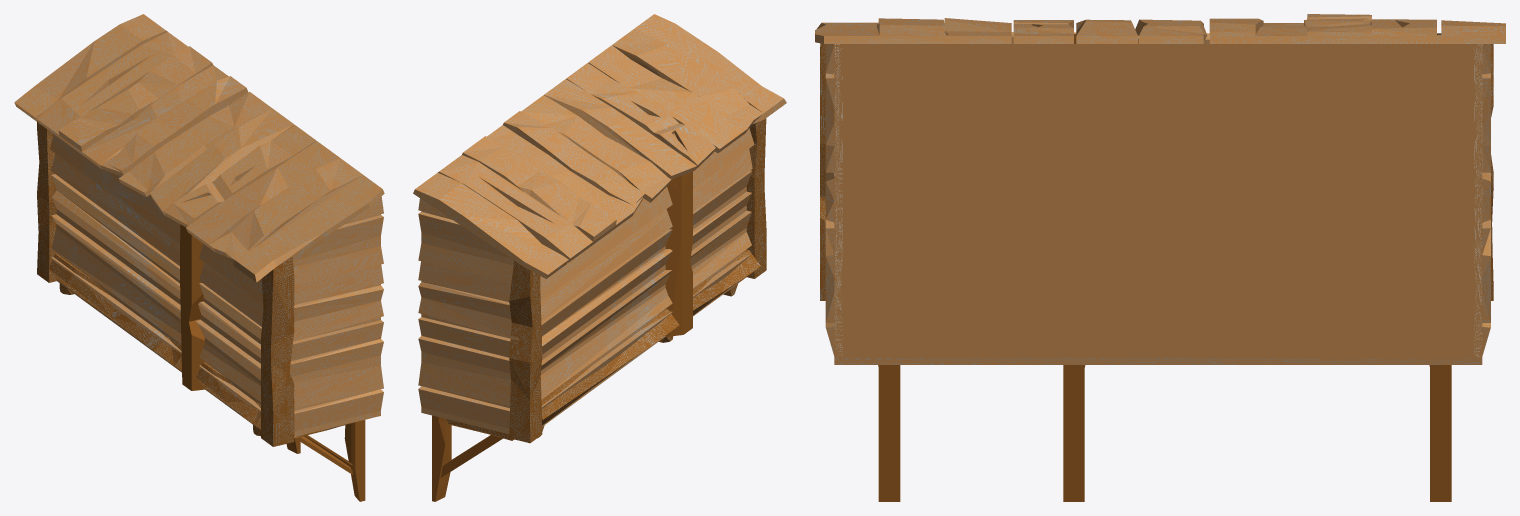
Rendered from Extension.fbx.
The picture shows the model from 3 angles, left to right: view 1: azimuth 30°, elevation 25°; view 2: azimuth 150°, elevation 25°; view 3: azimuth 270°, elevation 25°; orthographic projection. The views are drawn at different scales.
Visible parts, largest first — view 1: Roof8_1, Group2, Group7, Group8, Group5, Group4, Group6, Konek3_1, Group17, Konek3_2, Blok1, Group16; view 2: Roof8_1, Group2, Group1, Group3, Group6, Group4, Konek3_1, Group5, Group10, Konek3_2, Blok1, Group9; view 3: Blok1, Roof8_1, Group17, Group10, Group13, Group5, Group7, Group8, Group1, Group3.
Part boxes in pixels (x1,y1,x2,y2): Roof8_1: (14,14,384,282); Group2: (50,134,263,411); Group7: (289,300,383,431); Group8: (292,196,383,321); Group5: (261,257,294,446); Group4: (180,224,204,390); Group6: (37,121,56,282); Konek3_1: (48,253,181,370); Group17: (344,420,365,501); Konek3_2: (196,362,260,429); Blok1: (57,280,380,436); Group16: (295,435,352,474); Roof8_1: (413,14,786,278); Group2: (540,128,754,408); Group1: (418,297,518,428); Group3: (418,198,513,319); Group6: (509,260,542,443); Group4: (665,171,692,336); Konek3_1: (541,309,679,425); Group5: (746,118,766,278); Group10: (432,415,451,501); Konek3_2: (693,249,760,315); Blok1: (421,277,746,433); Group9: (440,435,502,477); Blok1: (834,44,1482,364); Roof8_1: (815,14,1505,43); Group17: (878,365,900,501); Group10: (1430,365,1451,501); Group13: (1063,365,1084,501); Group5: (820,43,825,300); Group7: (825,182,834,355); Group8: (825,44,834,199); Group1: (1482,182,1490,355); Group3: (1482,44,1490,199).
Bounding box in the file's own units: 511 × 1197 × 1600.
